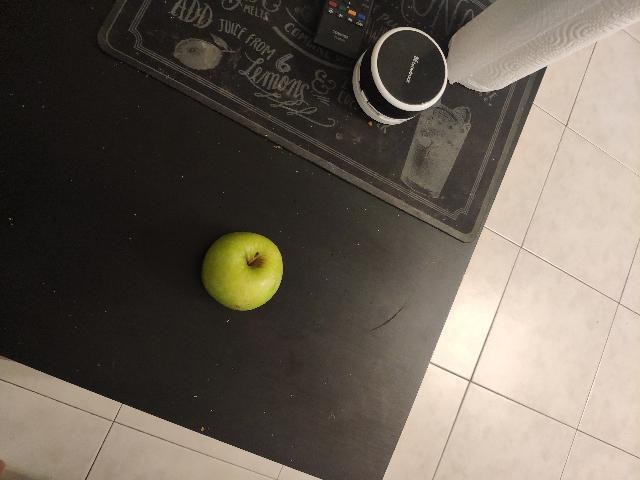apple: (382, 342, 483, 463)
